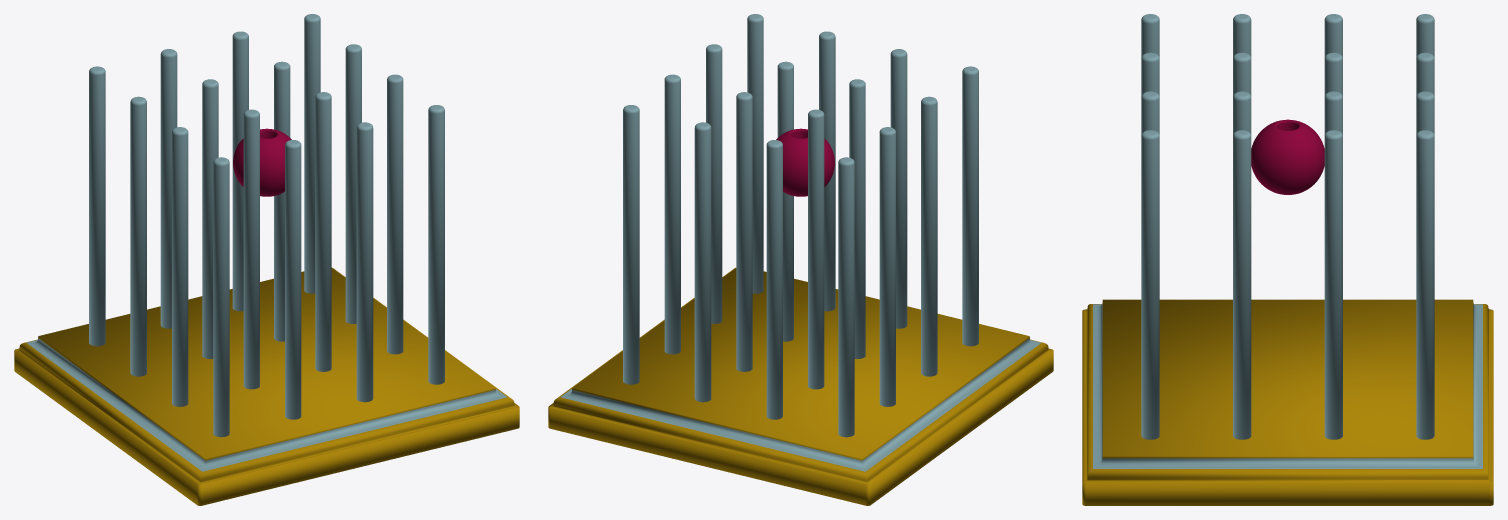
The model's file is TetraLight.glb.
3 views of the same model, side by side, from view 1: azimuth 30°, elevation 25°; view 2: azimuth 150°, elevation 25°; view 3: azimuth 270°, elevation 25° (orthographic). The views are drawn at different scales.
Visible parts, largest first — view 1: game-board, pile-13, pile-08, pile-09, pile-10, pile-03, pile-15, pile-07, pile-12, pile-14, pile-11, pile-02 (+6 smaller); view 2: game-board, pile-01, pile-04, pile-05, pile-06, pile-15, pile-03, pile-00, pile-02, pile-11, pile-07, pile-14 (+6 smaller); view 3: game-board, pile-00, pile-04, pile-08, pile-12, pearl-specimen, pile-01, pile-13, pile-05, pile-09, pile-02, pile-14 (+6 smaller).
Boxes of the visible parts, bbox=[...] form: game-board: bbox=[14, 267, 519, 505]; pile-13: bbox=[356, 122, 373, 402]; pile-08: bbox=[387, 74, 403, 354]; pile-09: bbox=[315, 92, 331, 371]; pile-10: bbox=[243, 109, 259, 389]; pile-03: bbox=[89, 66, 105, 346]; pile-15: bbox=[213, 157, 229, 437]; pile-07: bbox=[130, 96, 146, 376]; pile-12: bbox=[428, 105, 444, 384]; pile-14: bbox=[285, 140, 301, 419]; pile-11: bbox=[172, 127, 188, 406]; pile-02: bbox=[160, 49, 177, 328]; game-board: bbox=[548, 267, 1053, 505]; pile-01: bbox=[694, 122, 711, 402]; pile-04: bbox=[664, 74, 680, 354]; pile-05: bbox=[736, 92, 752, 371]; pile-06: bbox=[808, 109, 824, 389]; pile-15: bbox=[962, 66, 978, 346]; pile-03: bbox=[838, 157, 854, 437]; pile-00: bbox=[623, 105, 639, 384]; pile-02: bbox=[766, 140, 782, 419]; pile-11: bbox=[921, 96, 937, 376]; pile-07: bbox=[879, 127, 895, 406]; pile-14: bbox=[890, 49, 907, 328]; game-board: bbox=[1082, 299, 1493, 505]; pile-00: bbox=[1416, 130, 1434, 439]; pile-04: bbox=[1324, 130, 1342, 439]; pile-08: bbox=[1233, 130, 1251, 439]; pile-12: bbox=[1141, 130, 1159, 439]; pearl-specimen: bbox=[1251, 119, 1324, 194]; pile-01: bbox=[1416, 91, 1434, 134]; pile-13: bbox=[1141, 91, 1159, 134]; pile-05: bbox=[1324, 91, 1342, 134]; pile-09: bbox=[1233, 91, 1251, 134]; pile-02: bbox=[1416, 52, 1434, 96]; pile-14: bbox=[1141, 52, 1159, 96].
Size of what is drawn, in the model's own units: 2.24 by 2.07 by 2.24.
